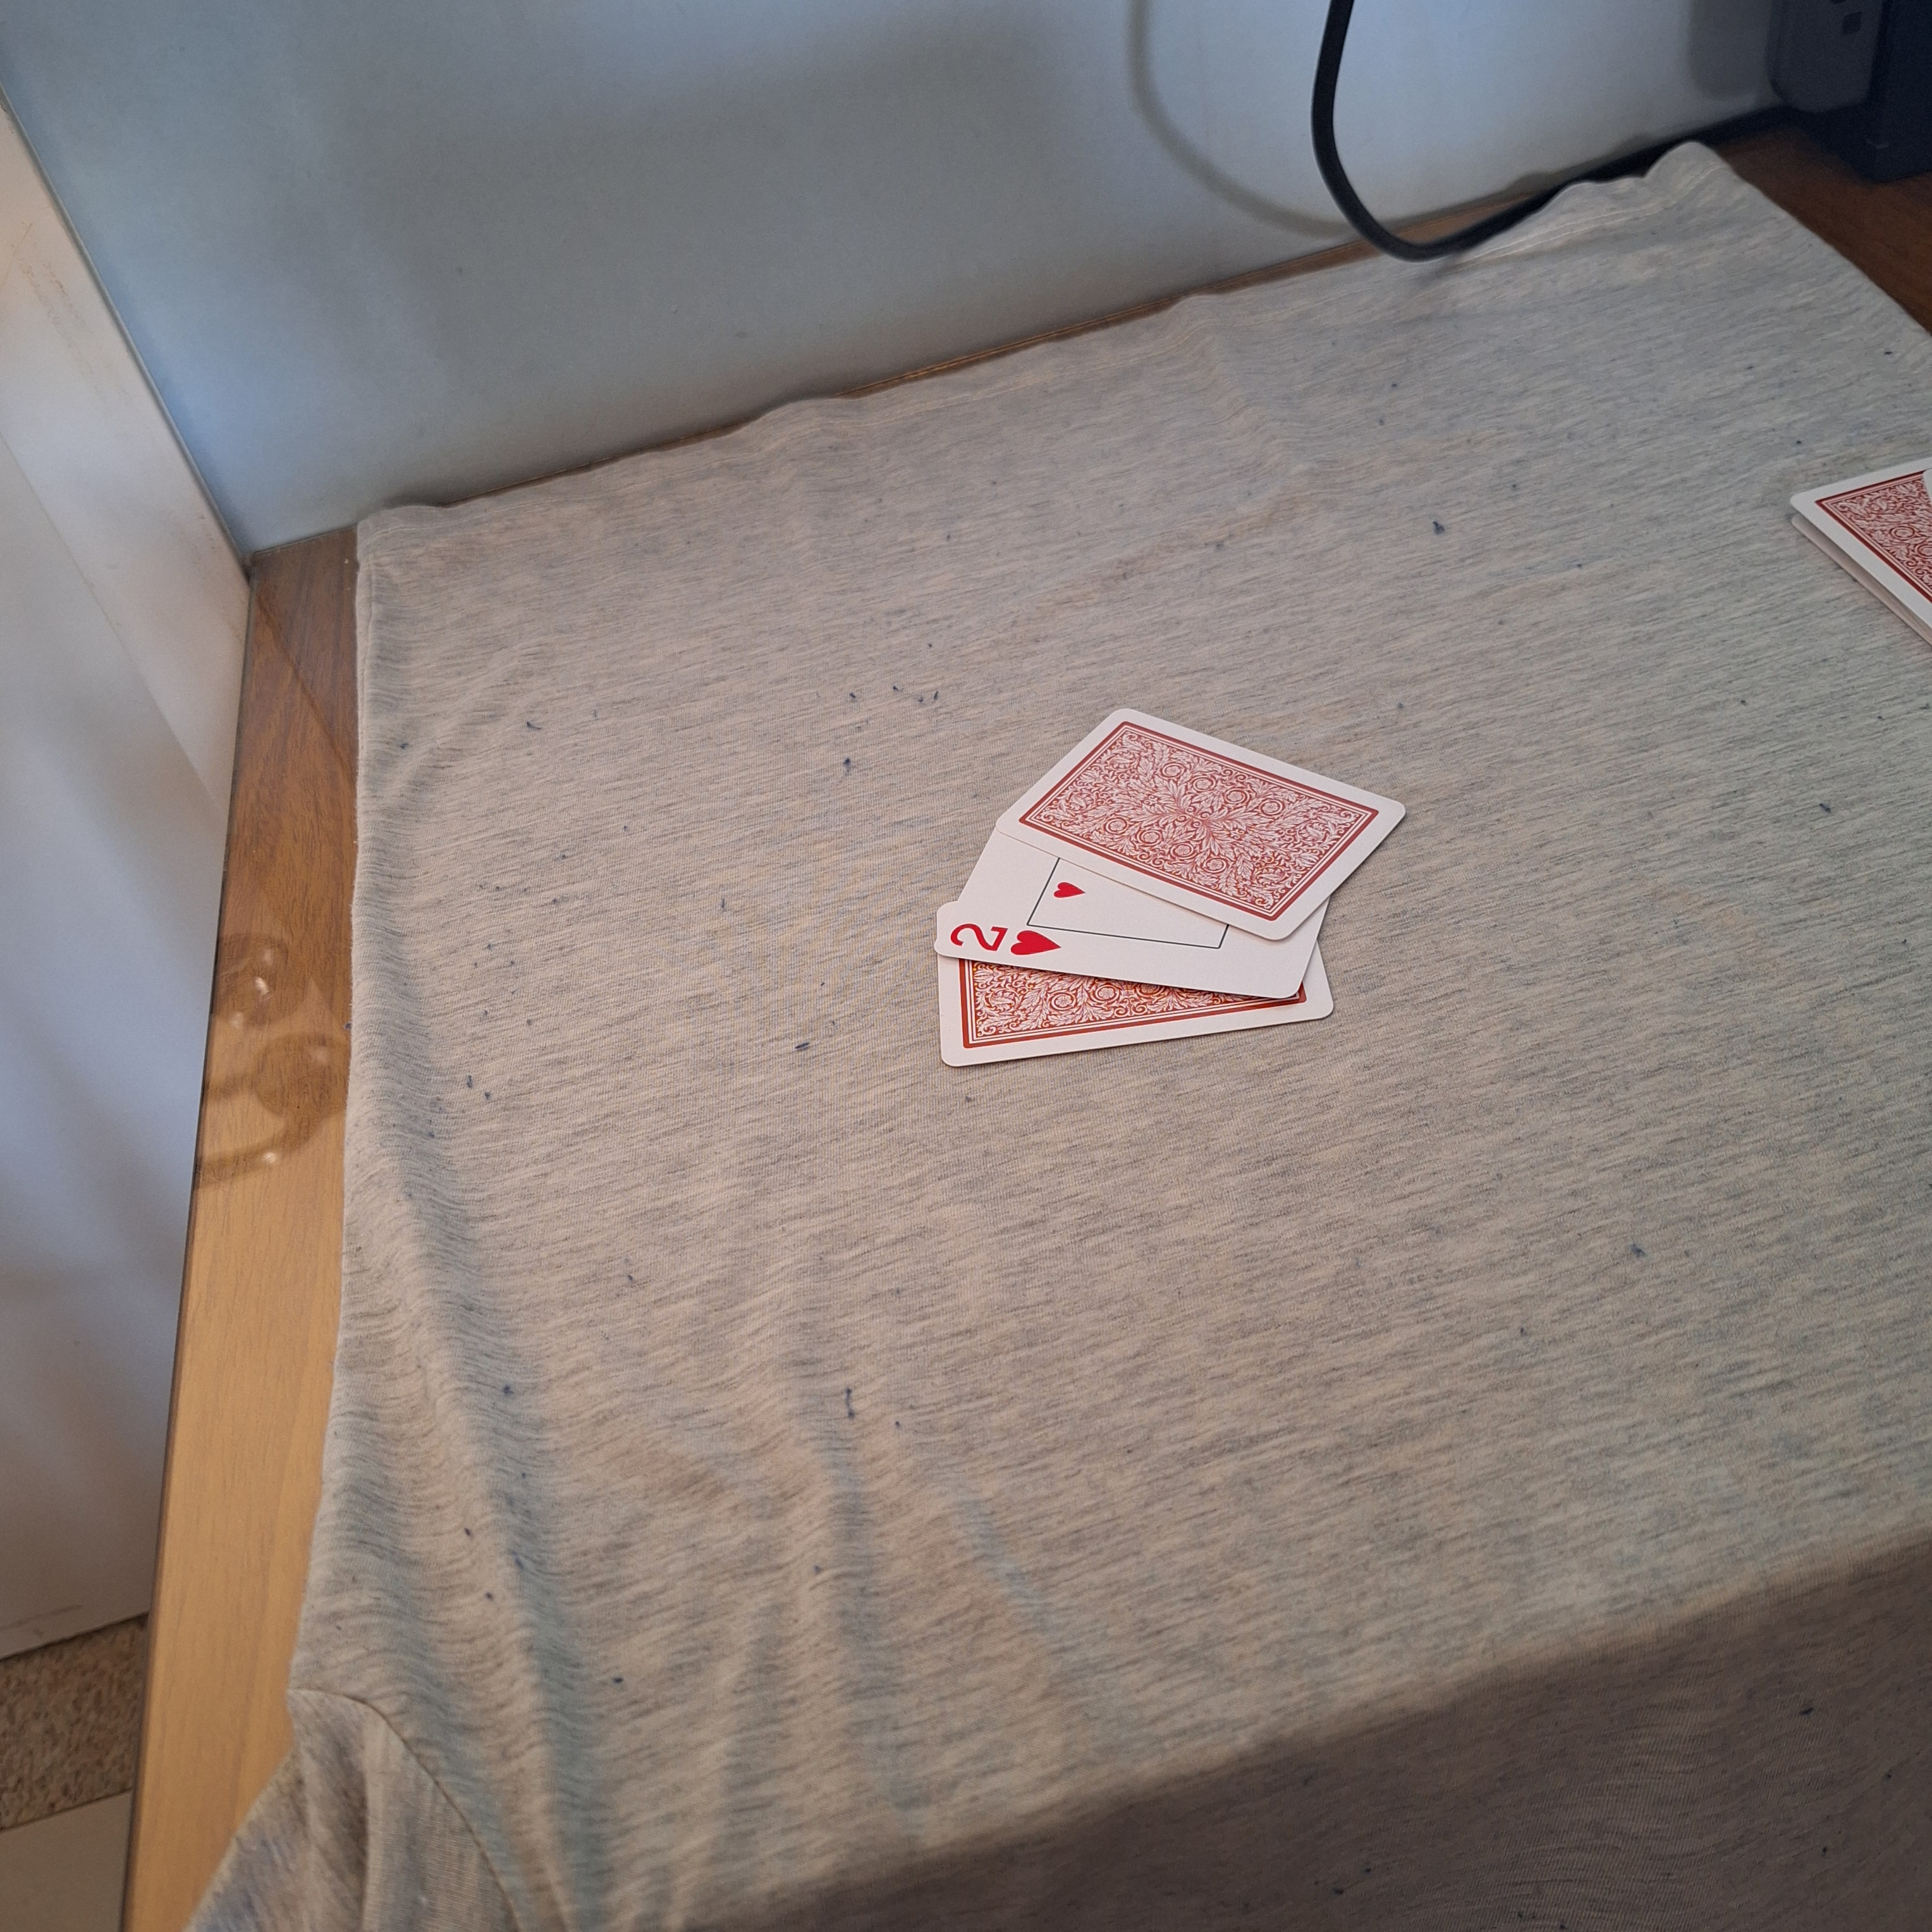2C: (947, 916, 1065, 970)
